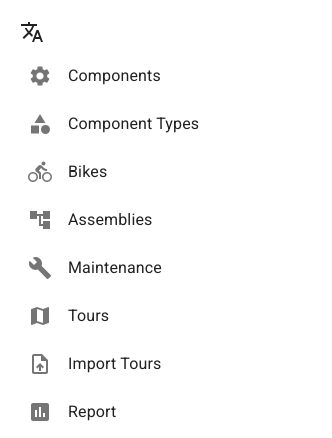
Test: LanguageSwitcher › flips the language, persists it, and re-renders translated labels
Expected: the text "Bikes" is shown, [68,162,107,181]
Click the button named "Language" at point(32, 32), box [12,12,52,52]
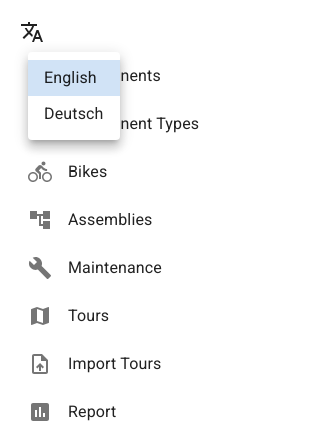
Click the menu item "Deutsch" at point(74, 114), box [44,104,104,123]
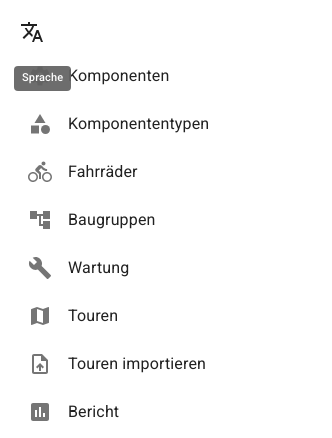
Now the text "Fahrräder" is shown, box [68,162,138,181]
